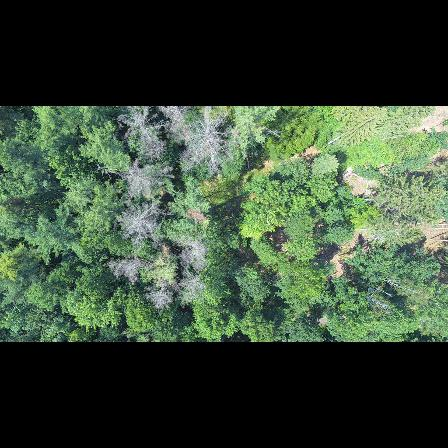Dead: (188, 109, 234, 176), (112, 160, 176, 200), (113, 107, 164, 156), (117, 200, 164, 239), (105, 251, 149, 282), (159, 106, 192, 147), (179, 234, 210, 273), (142, 276, 170, 313), (176, 275, 204, 299)
